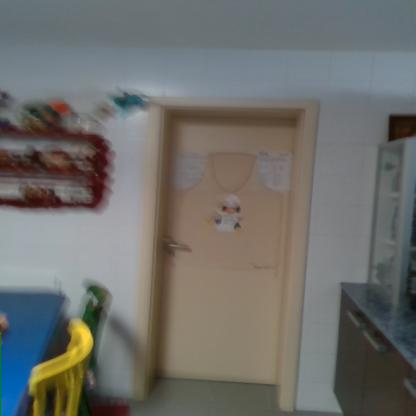door: (155, 106, 298, 386)
lever: (166, 243, 192, 252)
